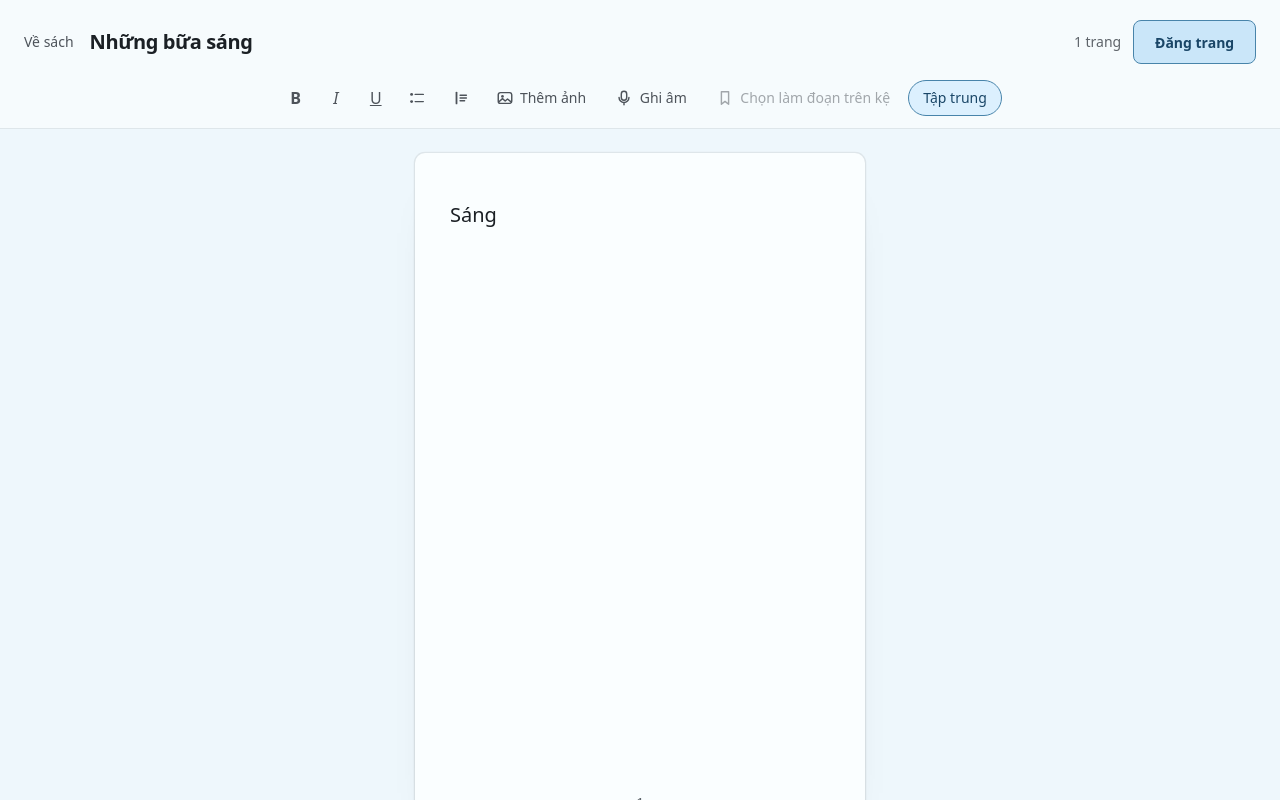
Scenario: ghi am › recorder da inactive ma chua bao stop, khong con byte nao: bam Dung phai bao loi chu khong dung yen
Click the button "Ghi âm". click: [652, 98]
box: left=604, top=80, right=700, bottom=116
Wait 12000 ms
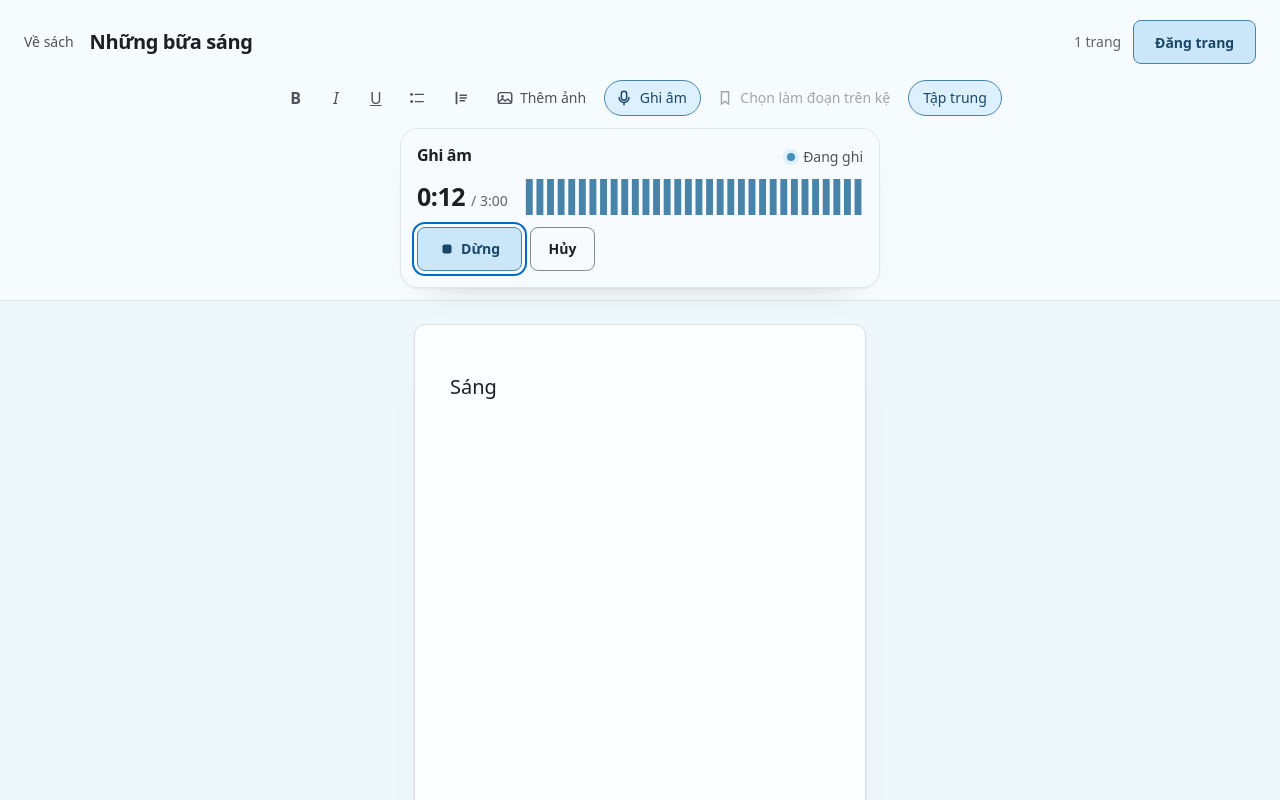
Click the button "Dừng". click: [470, 249]
box: left=417, top=227, right=522, bottom=271
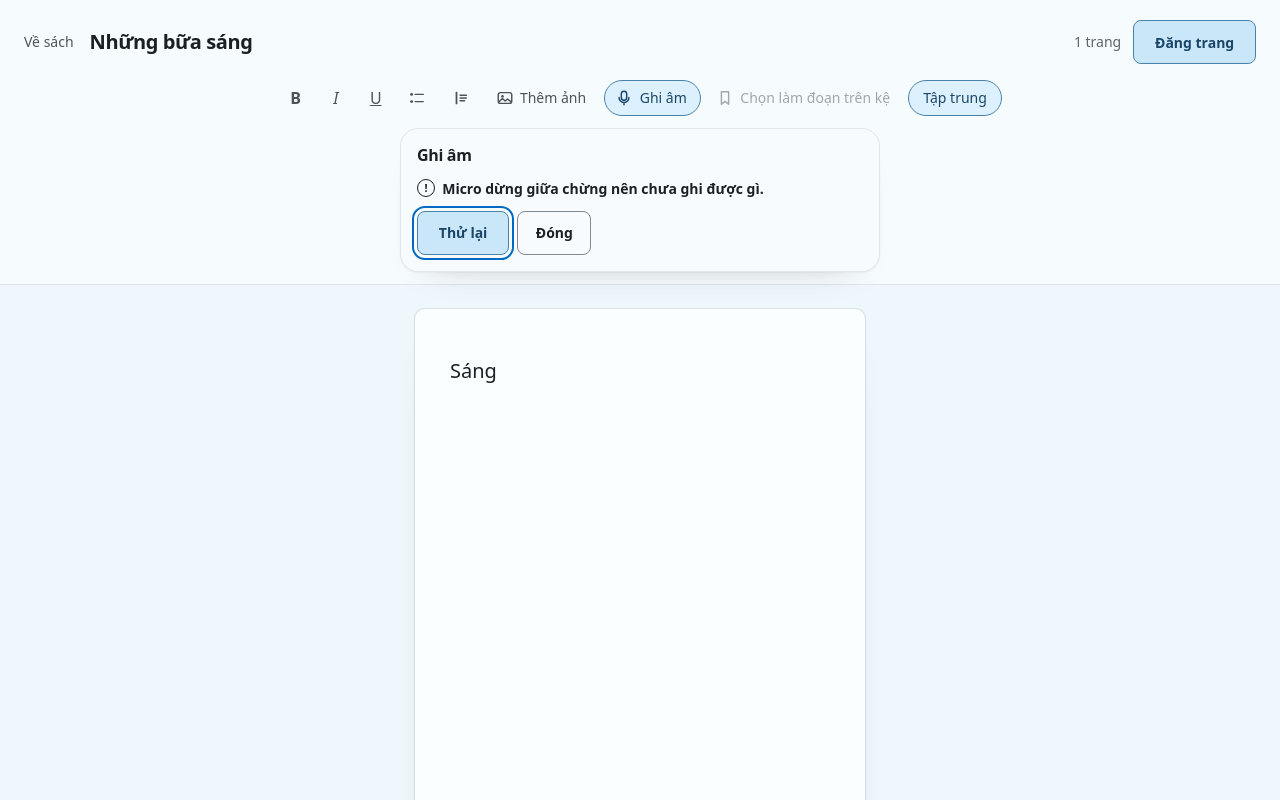
Now the buttons read "Thử lại", "Đóng", in this order, box left=417, top=211, right=509, bottom=255; left=517, top=211, right=592, bottom=255
